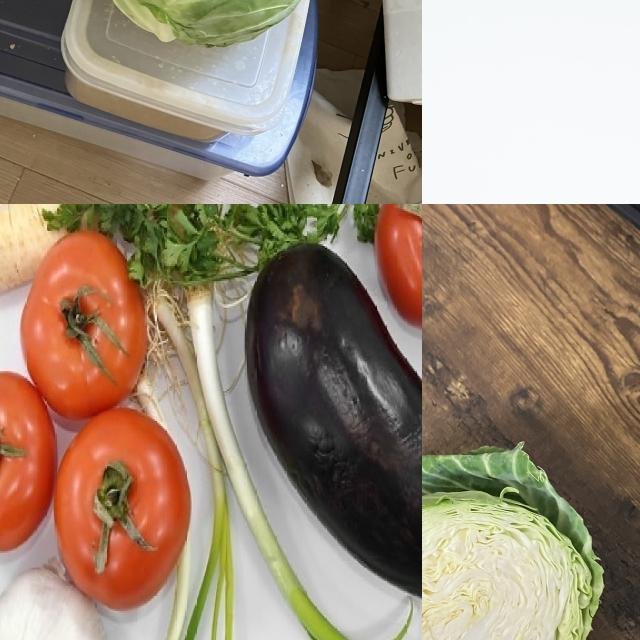cabbage: (423, 440, 608, 640), (94, 1, 333, 54)
eggplant: (249, 242, 423, 595)
garlic: (1, 557, 108, 640)
tomato: (53, 406, 197, 609), (27, 221, 141, 395), (1, 369, 46, 540), (384, 205, 423, 332)
